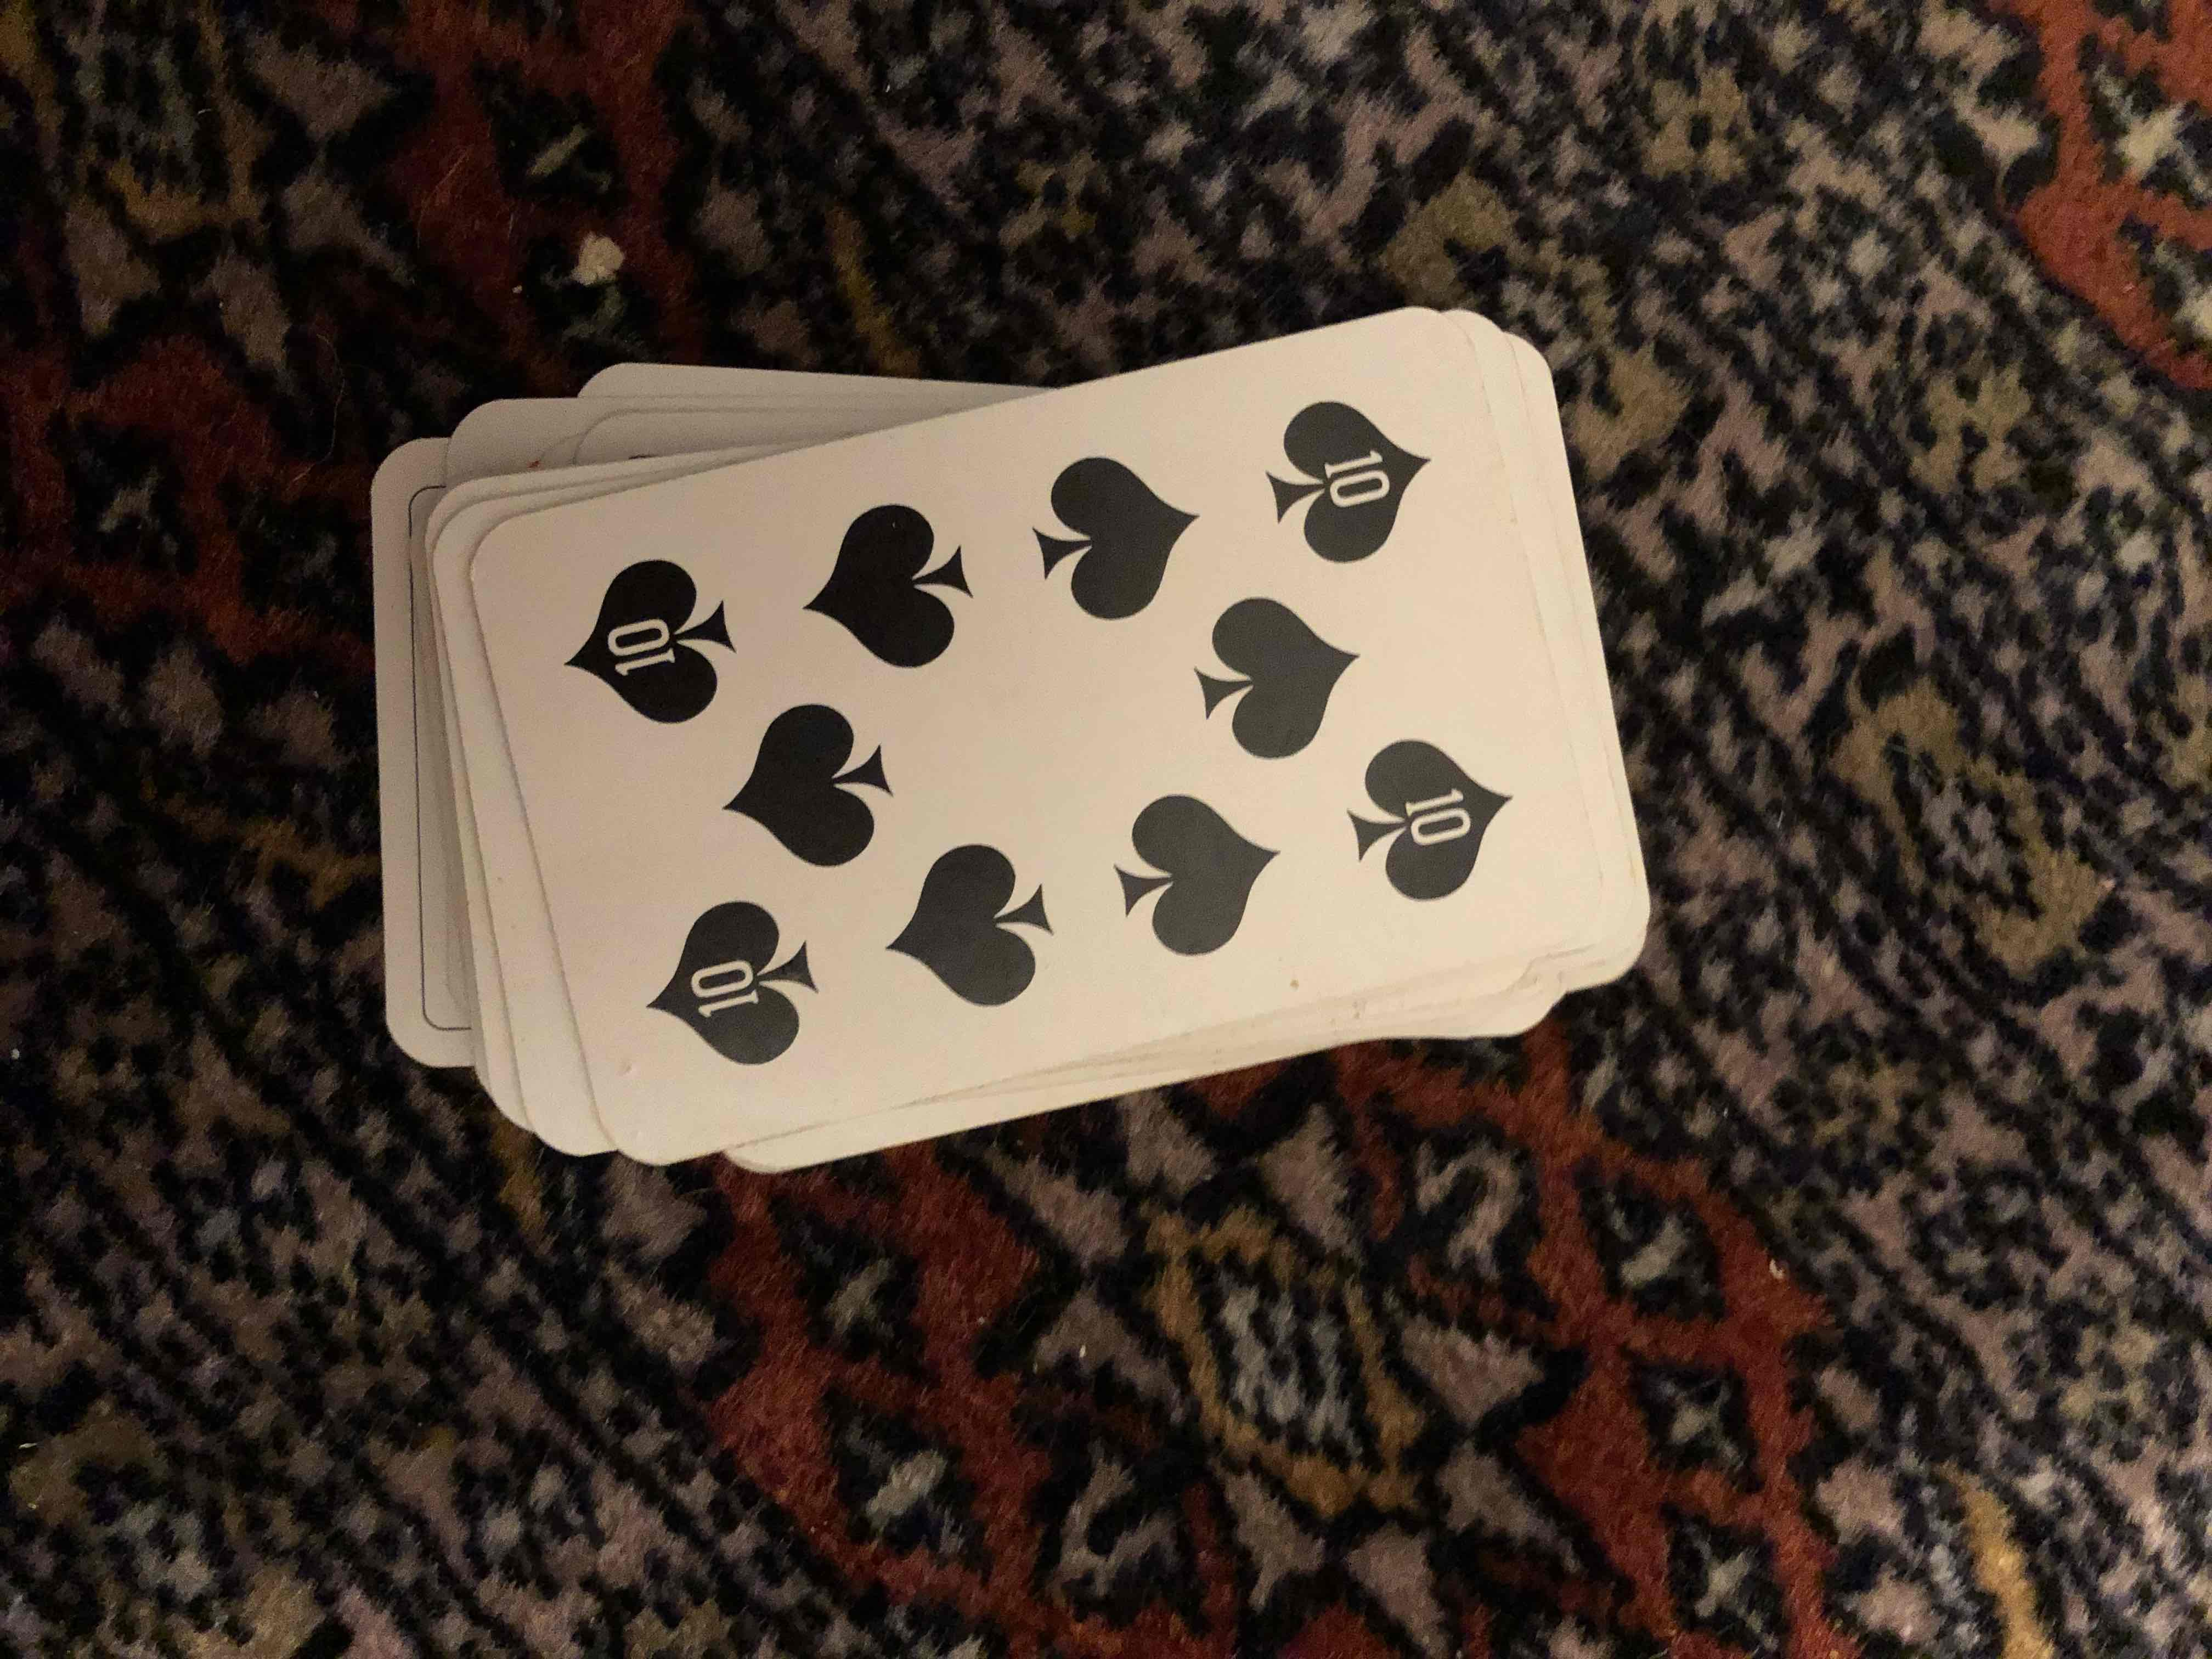spades10: (470, 422, 1663, 1082)
